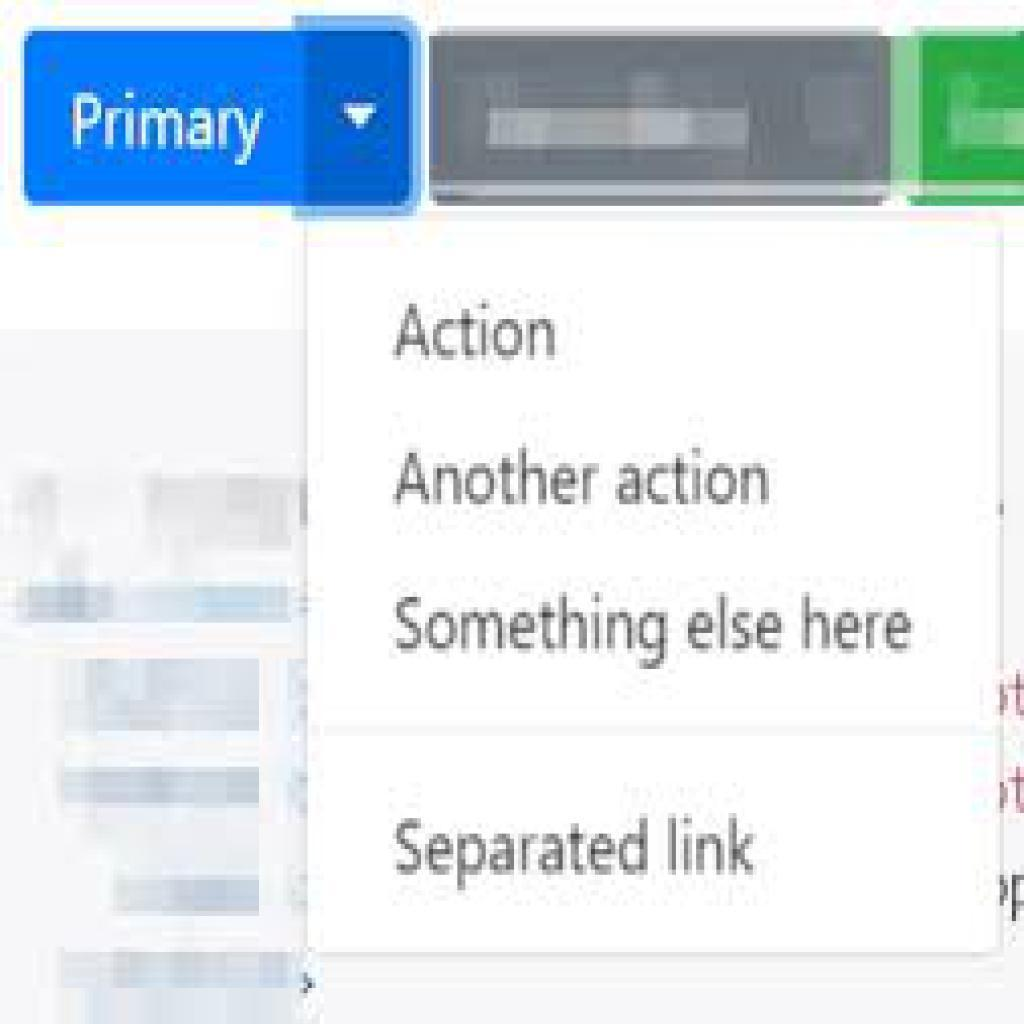button: (428, 33, 893, 205)
dropdown: (23, 28, 412, 205)
